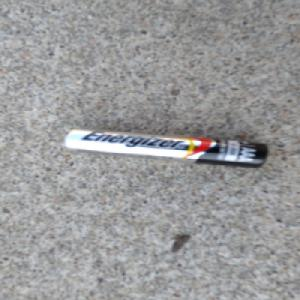Battery: (60, 127, 270, 169)
